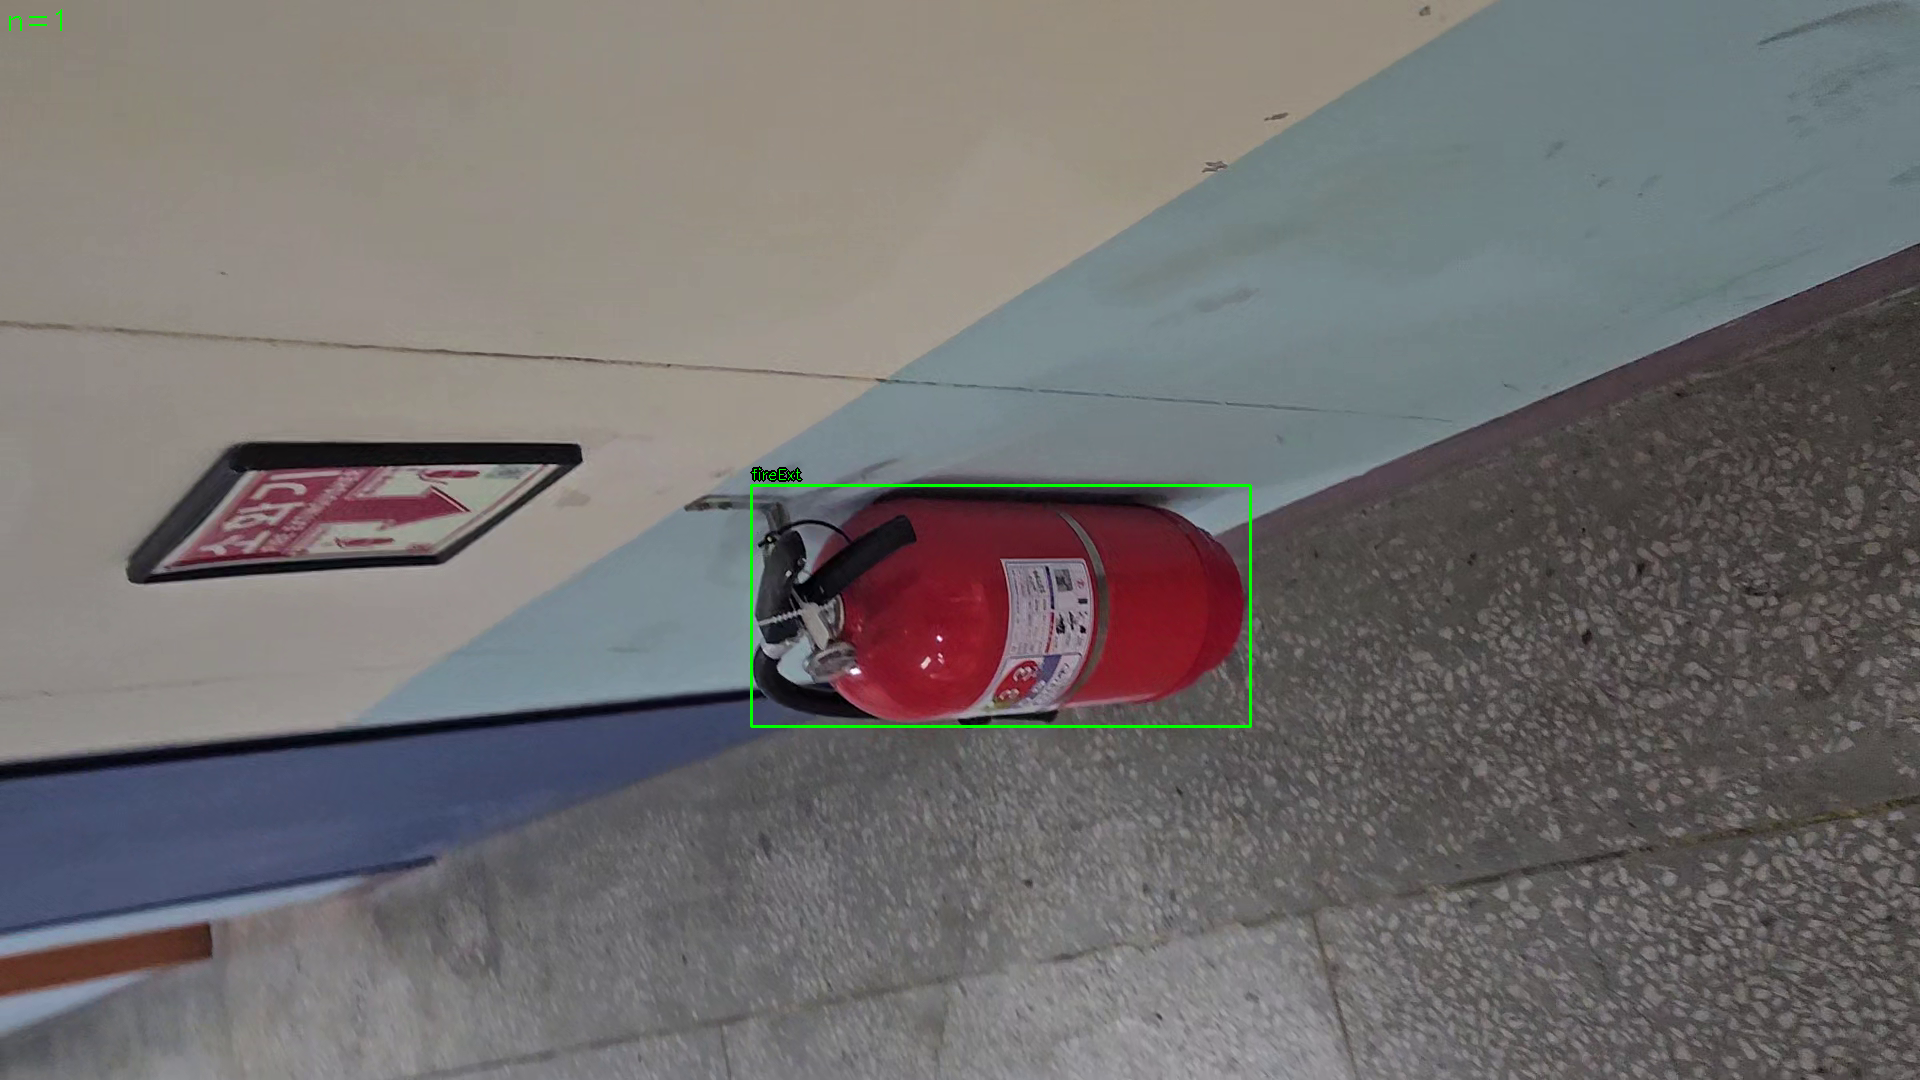lane: (752, 485, 1251, 727)
